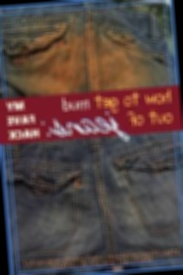earth: (36, 40, 141, 93)
